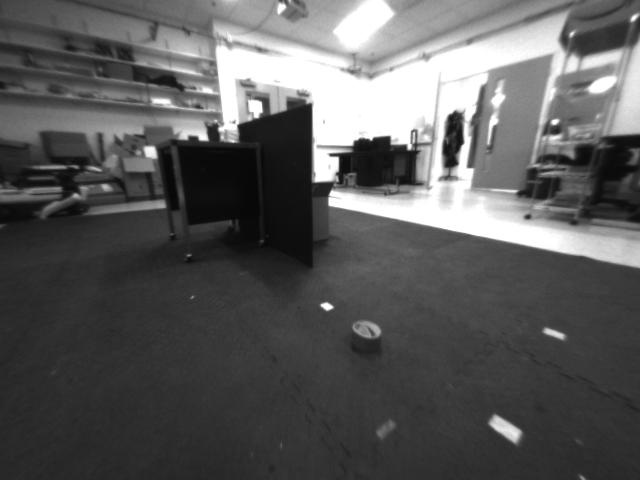dogtoy: (338, 304, 405, 365)
